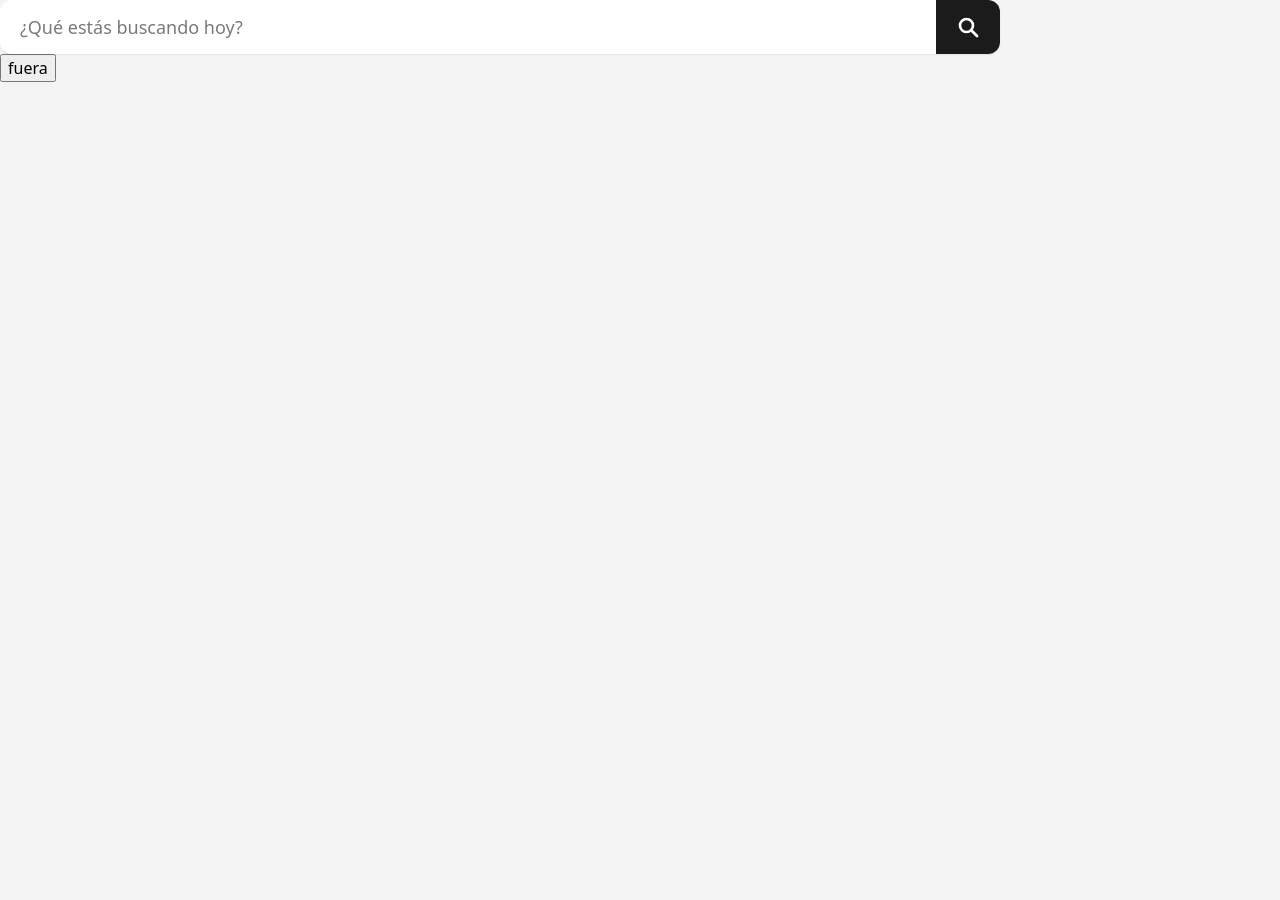
Test: SearchBox › muestra el estado vacío con sugerencias
This screenshot has width=1280, height=900.
Type "camisa" into the search field named "Buscar productos" at (468, 27), box [0, 0, 936, 54]
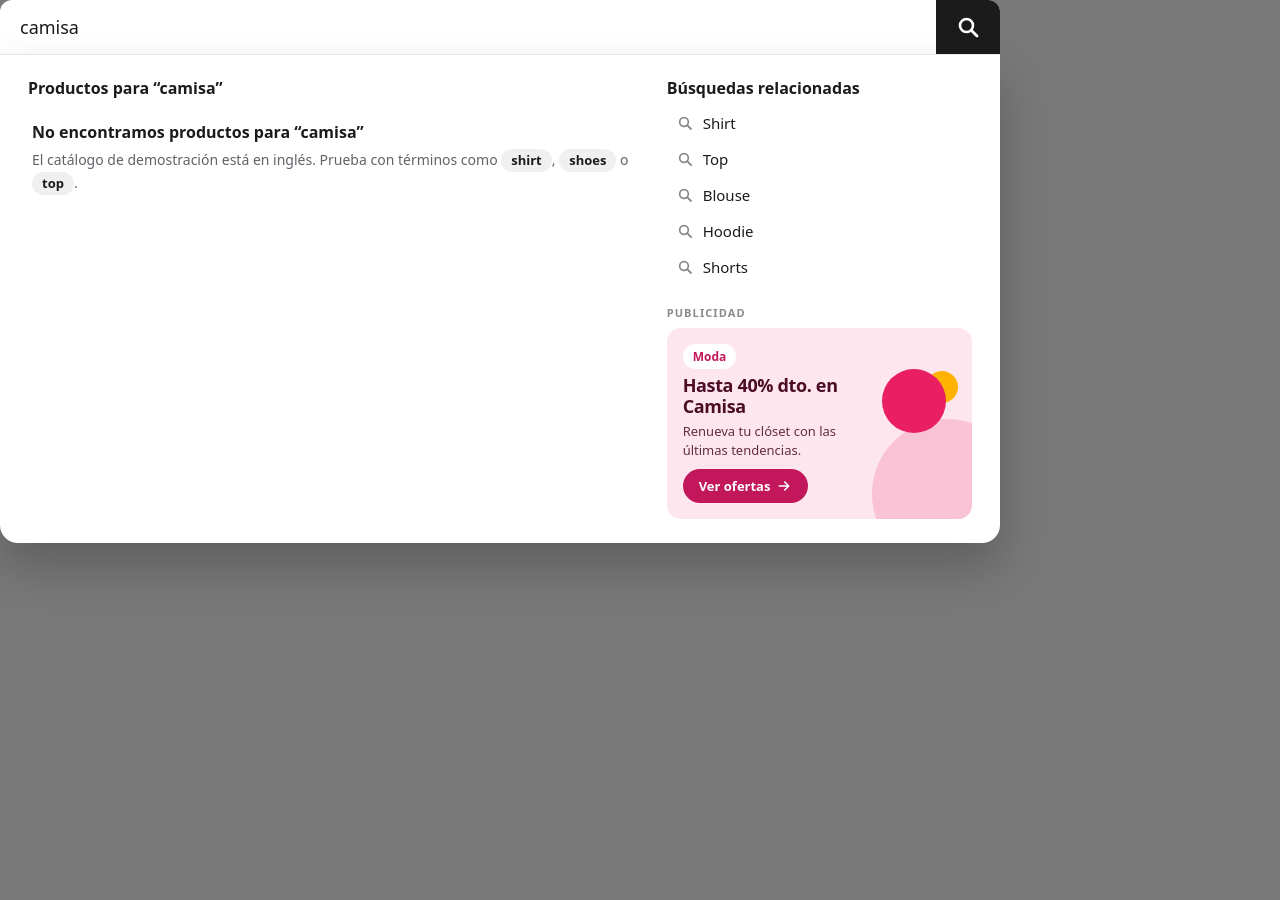
Now the text "No encontramos productos para “camisa”" is shown, box [32, 121, 364, 143]
Now the button "shirt" below "No encontramos productos para “" is shown, box [501, 149, 552, 172]
Now the element "Publicidad" is shown, box [667, 305, 972, 519]
